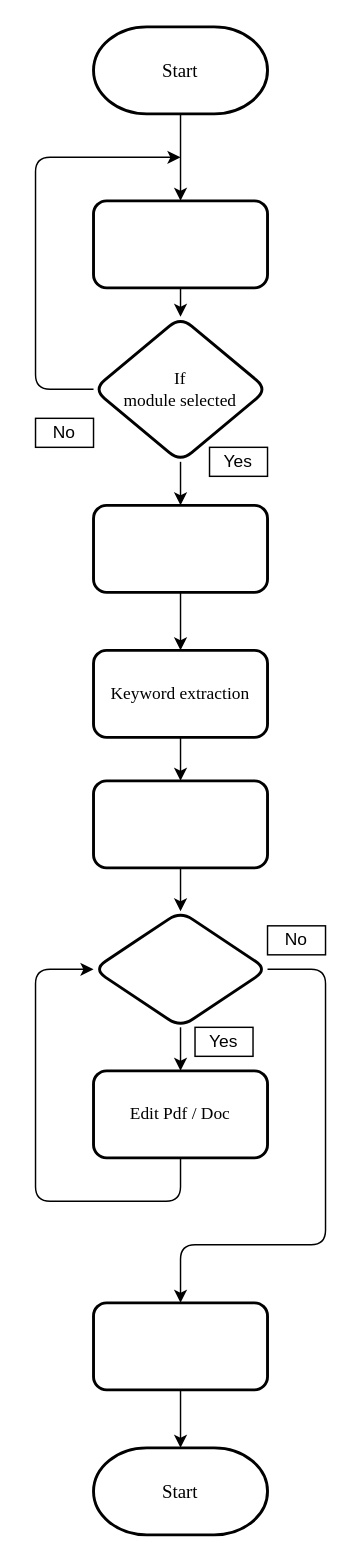
The diagram is 363 pixels wide and 1560 high, and some of its shapes have lost their labels. The centre of each missing label's shape, as x and y in pixels:
"Create Pdf using FPDF" belongs at (179,1346).
"Generate Questions" belongs at (179,824).
"Question Customization" belongs at (179,968).
"Select PDF" belongs at (179,244).
"Text extraction Tokenize the words" belongs at (179,548).
